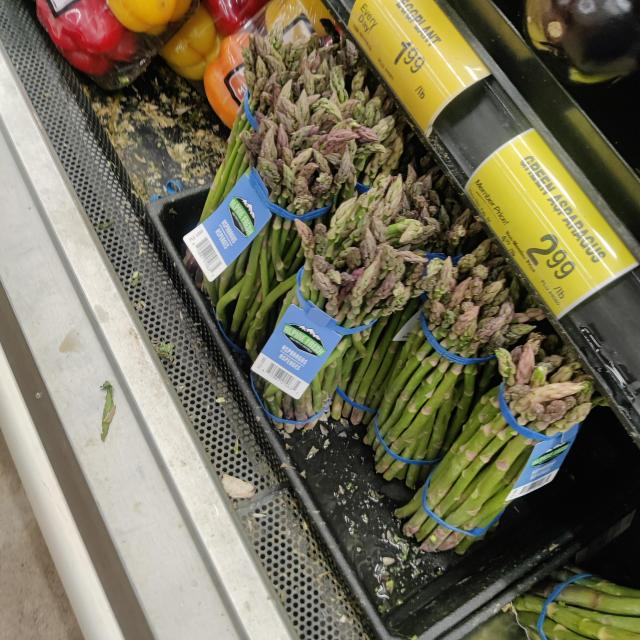Asparagus: (163, 56, 400, 332), (262, 134, 466, 438), (355, 205, 523, 504), (412, 326, 592, 574)
